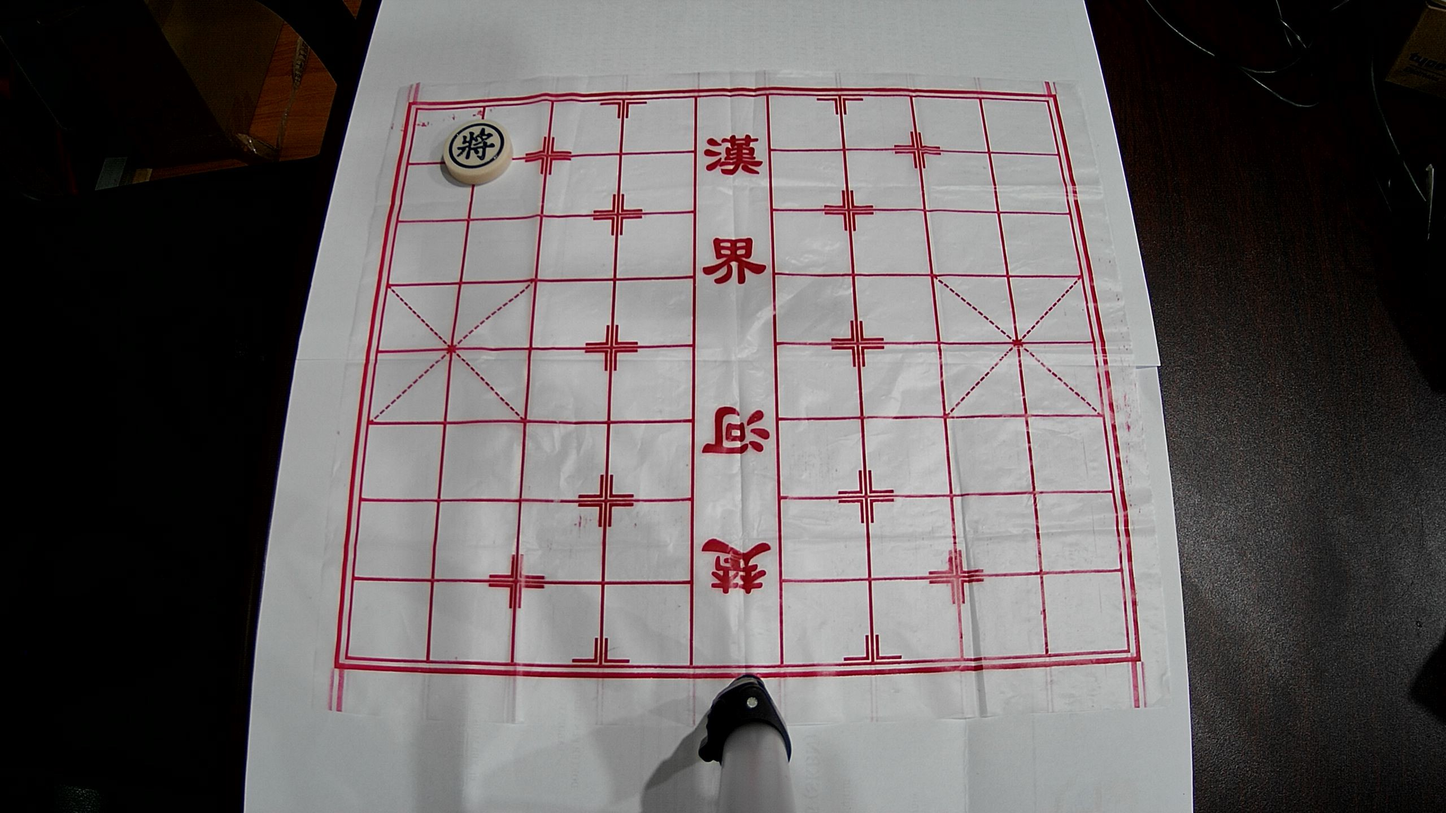Black-General: (443, 120, 513, 185)
